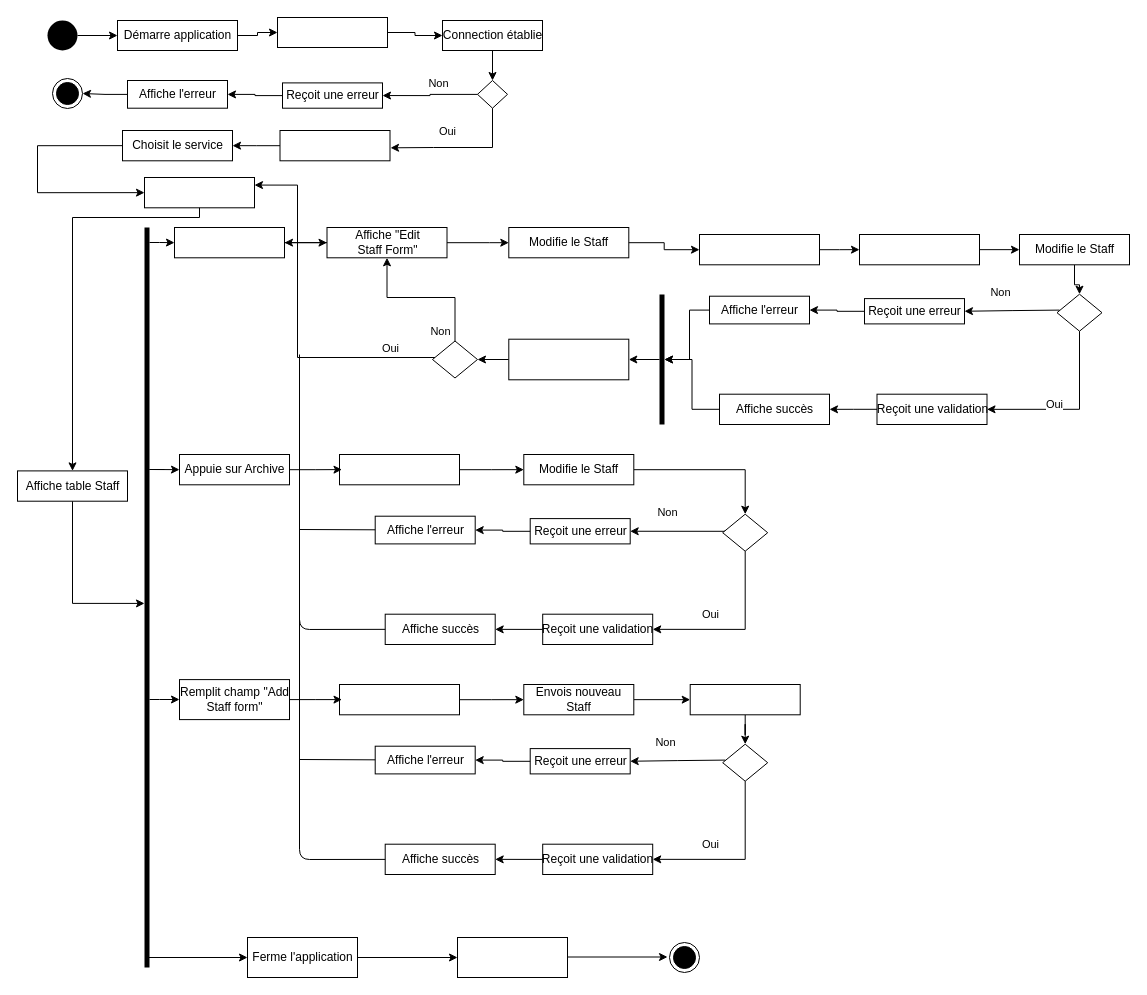
This 1147x995 diagram has some shape labels left out. Here are the shapes that lost their labels. From the top down, the centre of each, then its label:
point (332, 32): Connection
point (334, 145): Affiche les services
point (199, 192): Choisit Staff
point (229, 242): Appuie sur Edit
point (759, 249): Appuie sur "Edit Staff"
point (919, 249): Envois les modifications
point (568, 359): Appuie sur "Back to Add new Staff"
point (399, 469): Envois modification
point (399, 699): Appuie sur "Add Staff"
point (744, 699): Créer nouveau Staff
point (512, 957): Deconnecte
